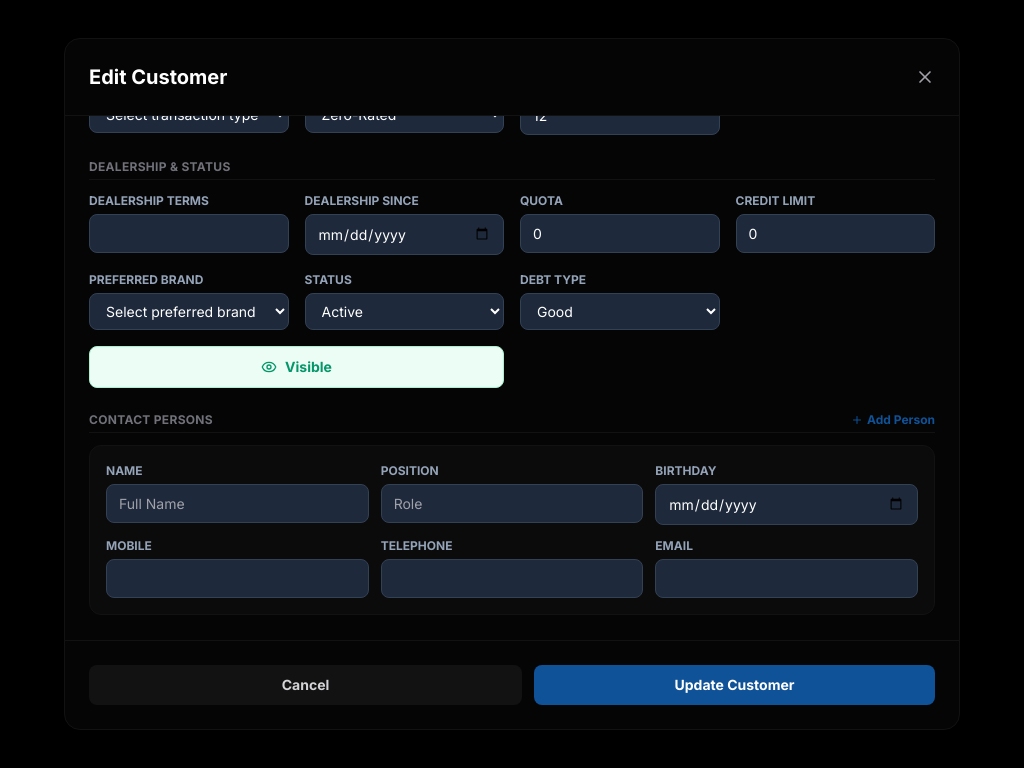
AddContactModal Customer Since › does not allow numbers in a contact person name
(page scrolled)
Type "Maria 123 Santos" into the field with placeholder "Full Name". click: (237, 503)
box: [106,484,369,523]
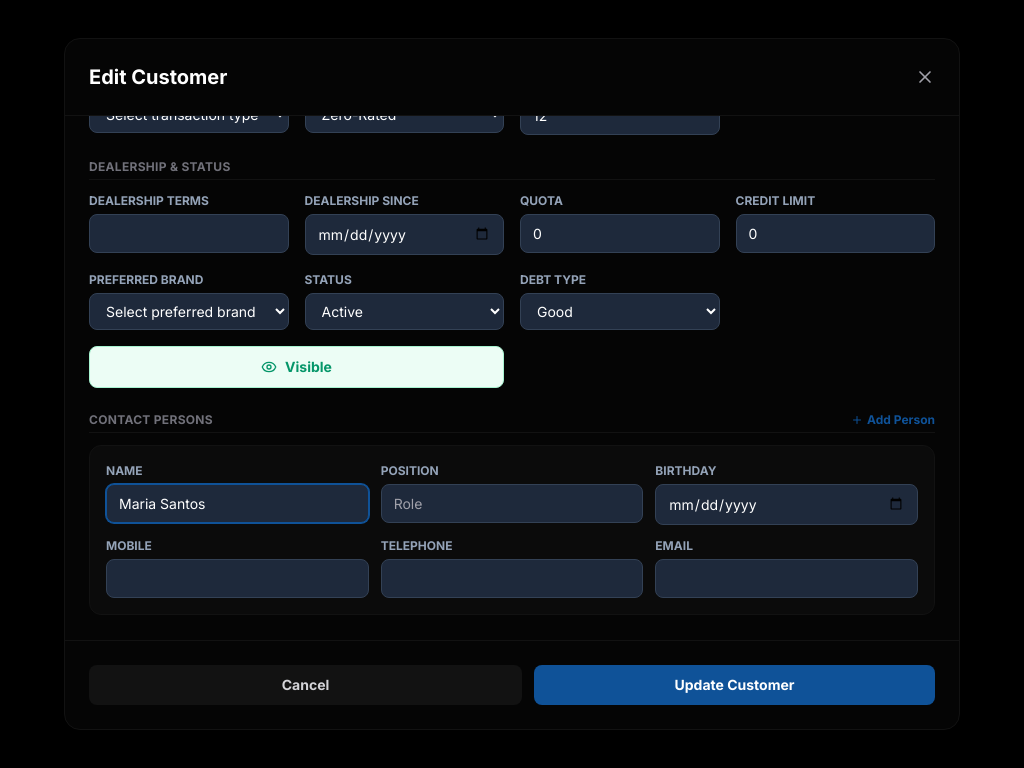
Now the field with placeholder "Full Name" below "Name" holds "Maria Santos", box [106,484,369,523]
